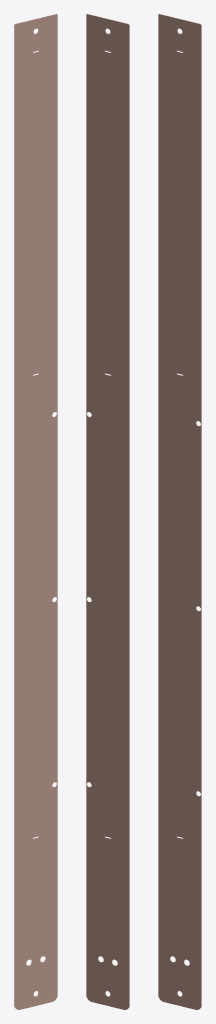
File: sheet-md-17-04194-2-4-unfolded.glb
3 renders of one model, left to right at view 1: azimuth 30°, elevation 25°; view 2: azimuth 150°, elevation 25°; view 3: azimuth 330°, elevation 25°, orthographic.
Parts seen in each view (by area): view 1: world; view 2: world; view 3: world.
Part boxes in pixels (x1=…): world: x1=14, y1=14, x2=57, y2=1009; world: x1=86, y1=14, x2=129, y2=1009; world: x1=158, y1=14, x2=201, y2=1009.
Size of the model in its own units: 74.62 by 1626 by 1.
